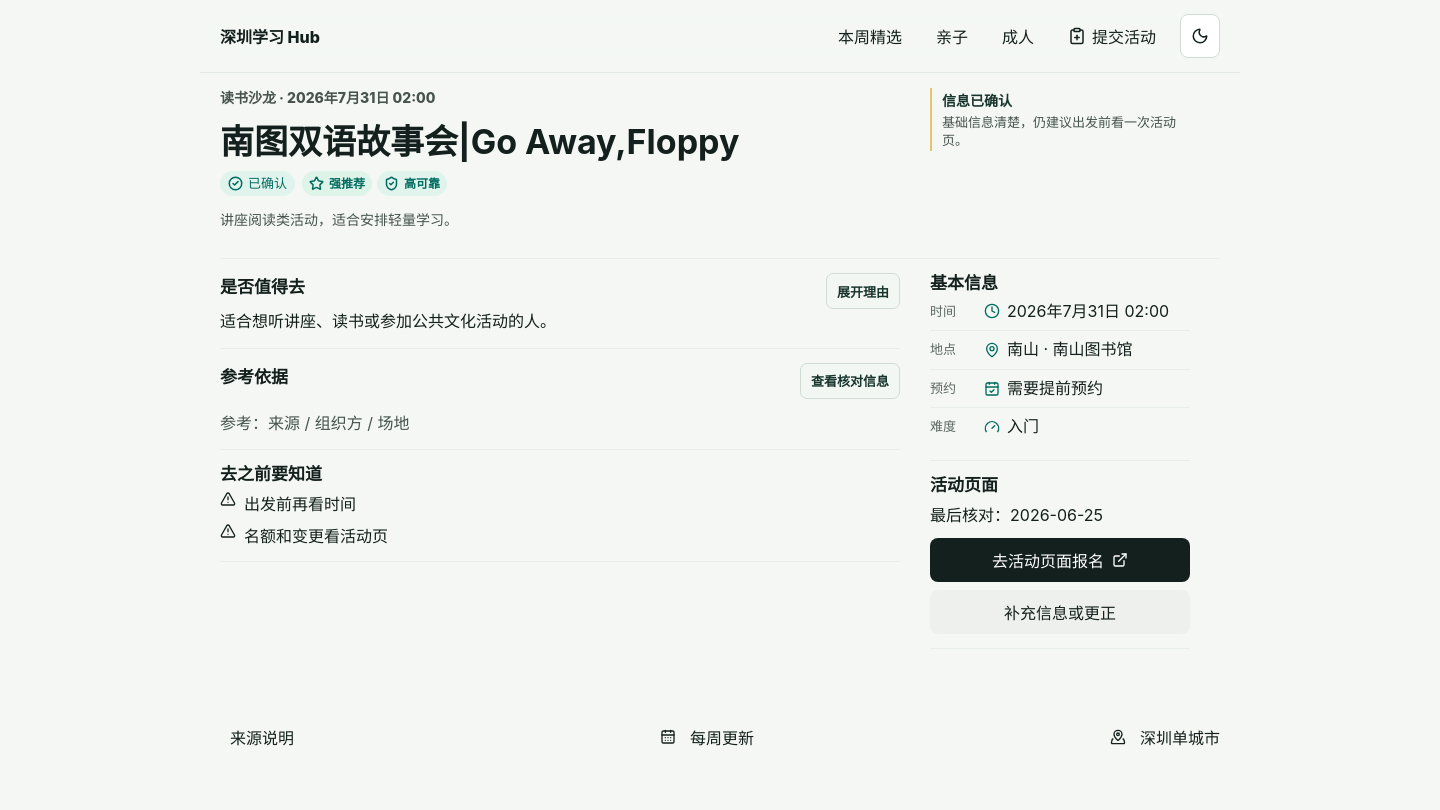
it: ActivityPage › collapses reasons and evidence by default on mobile and supports toggles
Check: the heading "适合谁" is not shown
Click the button "展开理由" at (863, 291), box [826, 273, 900, 309]
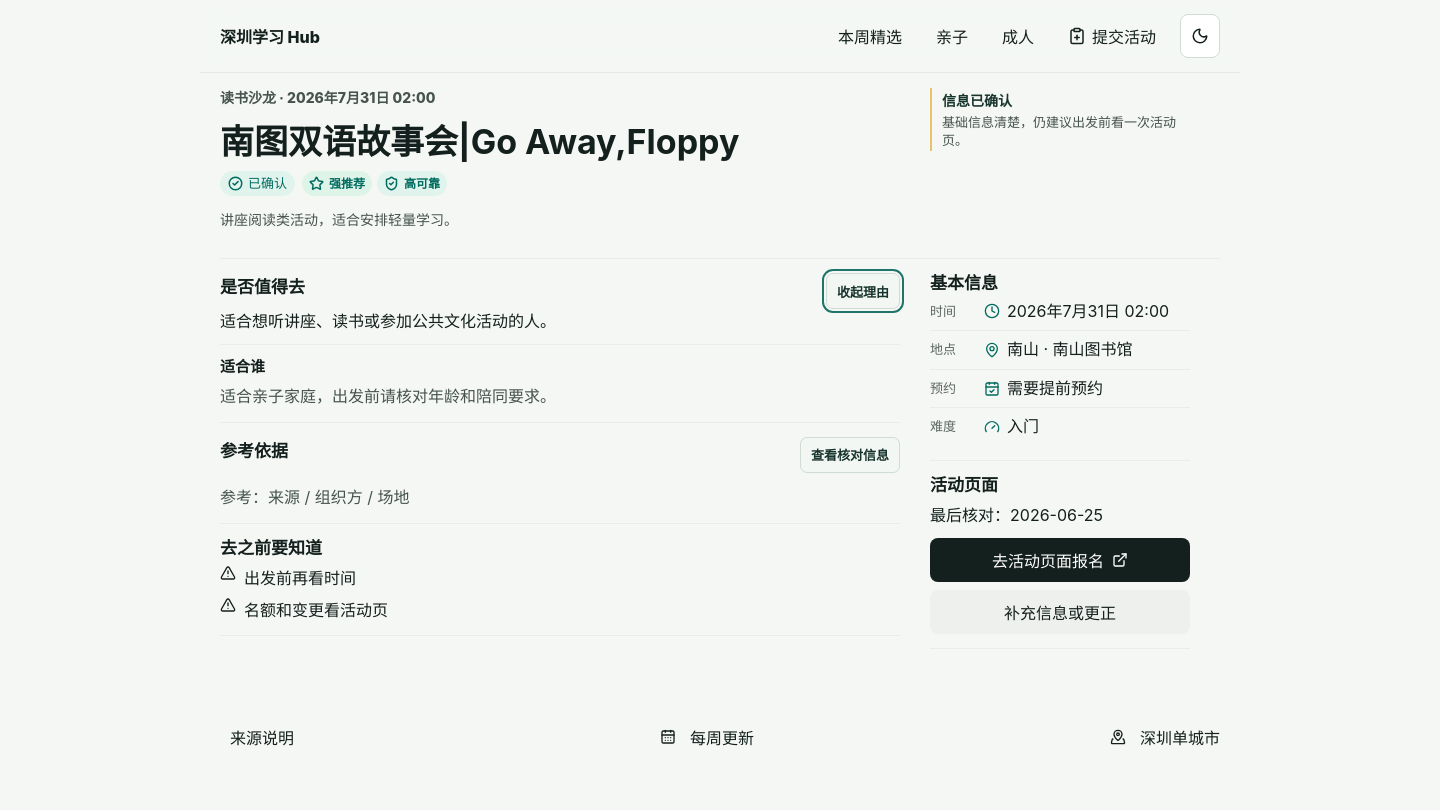
Check: the heading "适合谁" is shown, box [220, 357, 265, 376]
Check: the button named "展开理由" is expanded, box [826, 273, 900, 309]
Click the button "查看核对信息" at (850, 455), box [800, 437, 900, 473]
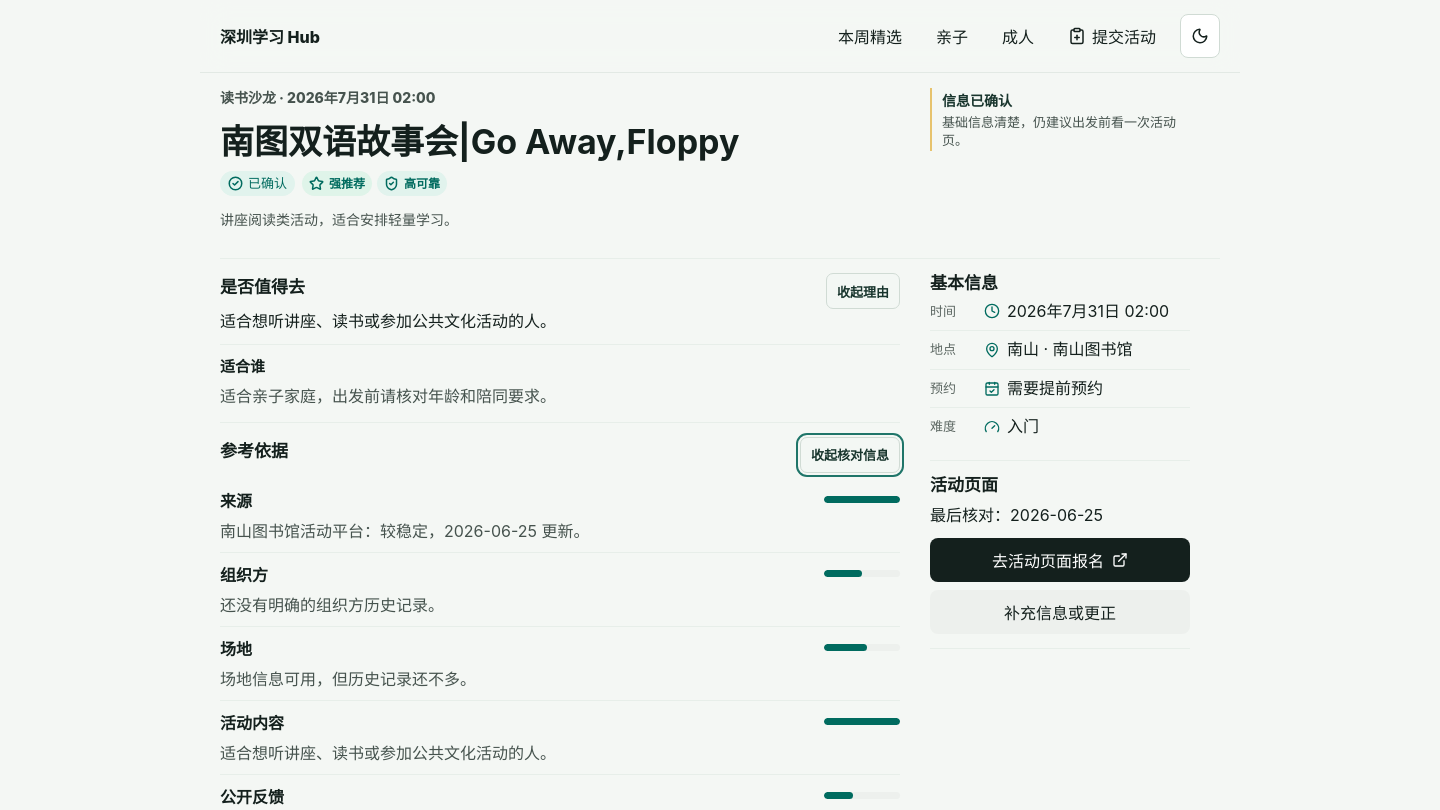
Check: the text "来源" is shown, box [220, 491, 252, 511]
Check: the button named "查看核对信息" is expanded, box [800, 437, 900, 473]
